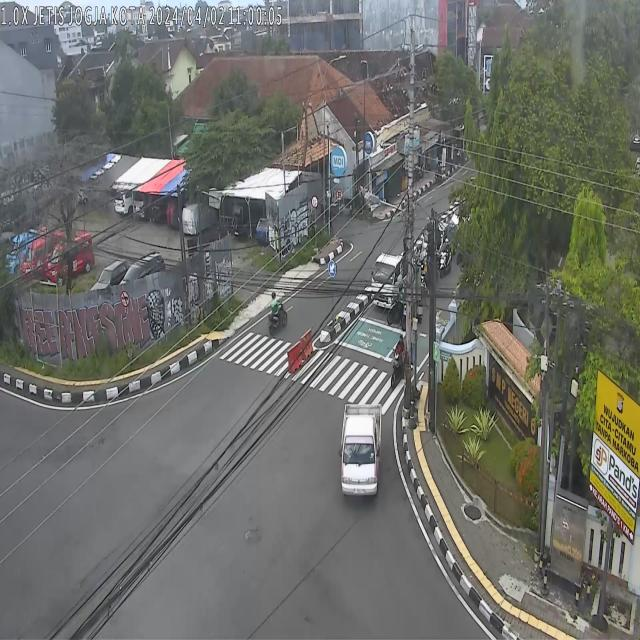motorcycle: (268, 292, 288, 336), (390, 334, 406, 386), (387, 281, 405, 326), (438, 238, 452, 279), (420, 257, 429, 299)
truck: (339, 402, 382, 498), (370, 252, 407, 310)
